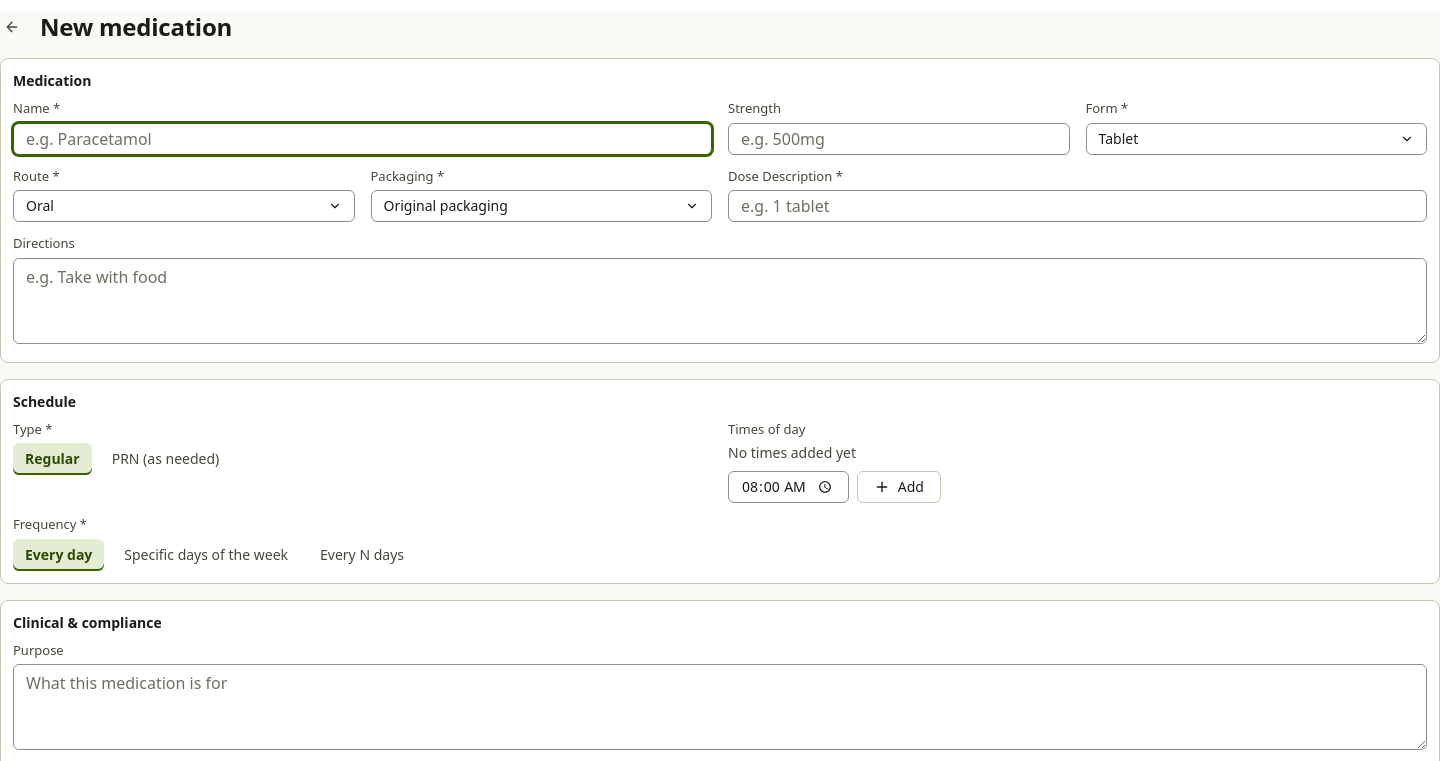
MedicationFormPage frequency controls › hides the frequency controls entirely for PRN medications
Click the radio button labelled "PRN (as needed)".
click(166, 459)  # box [100, 443, 231, 475]
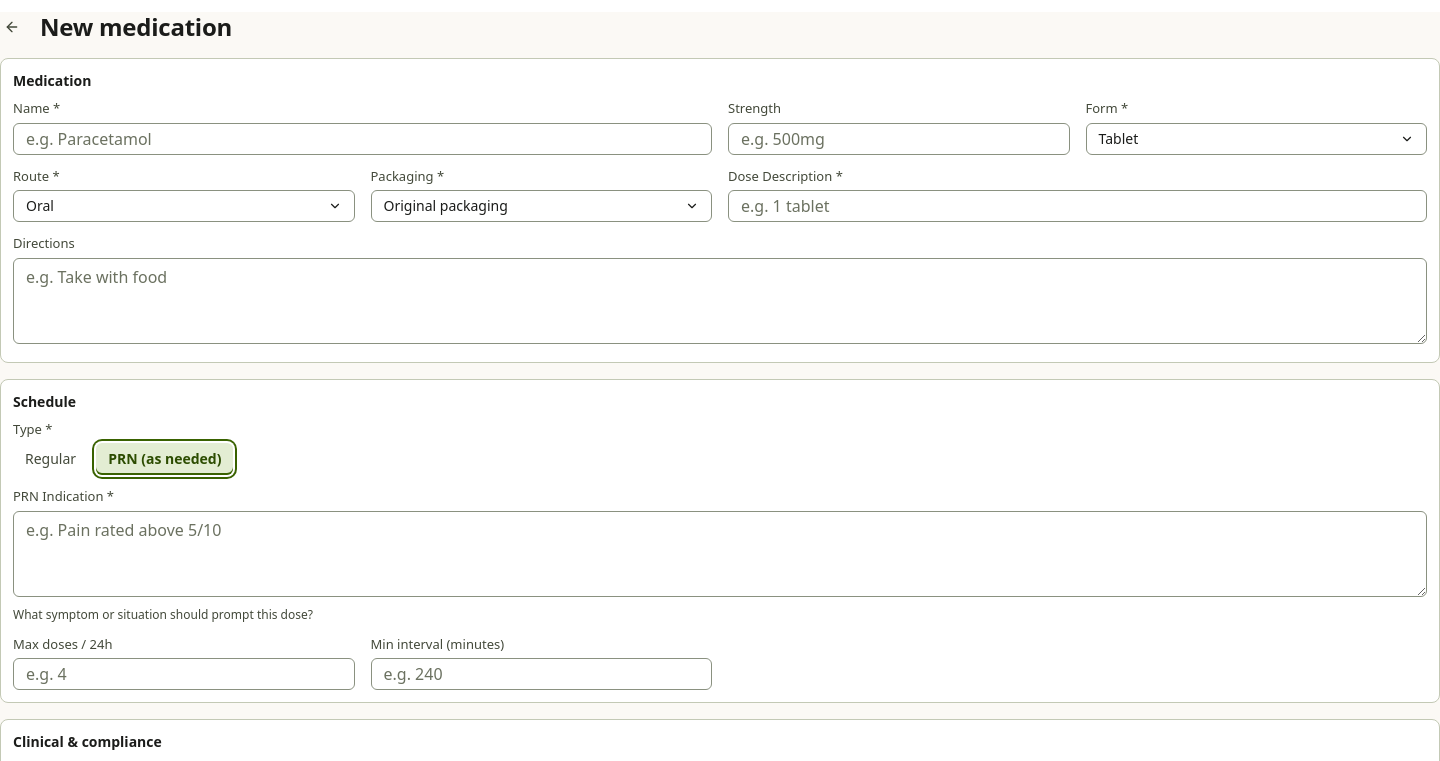
Check: the radio button labelled "Every day" is gone
Check: the text "PRN Indication *" is shown, box [13, 487, 114, 505]
